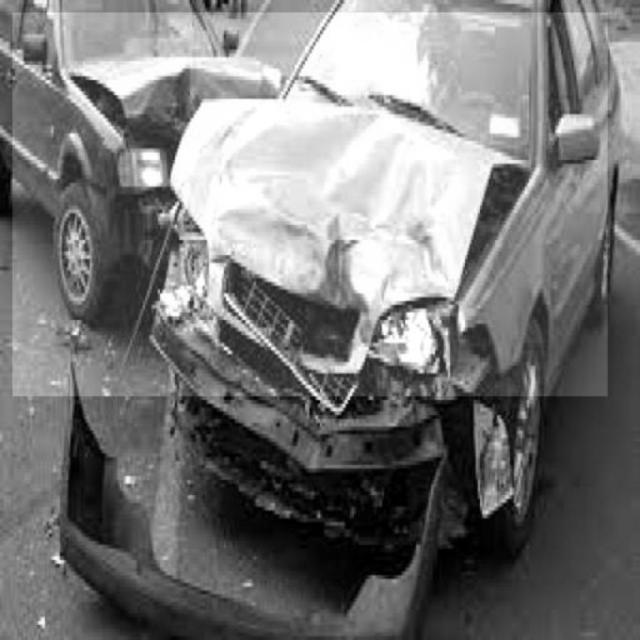accident: (12, 12, 608, 396)
